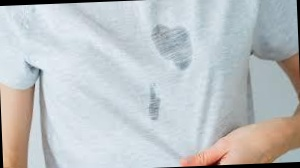oil: (154, 23, 193, 72), (136, 84, 164, 125)
